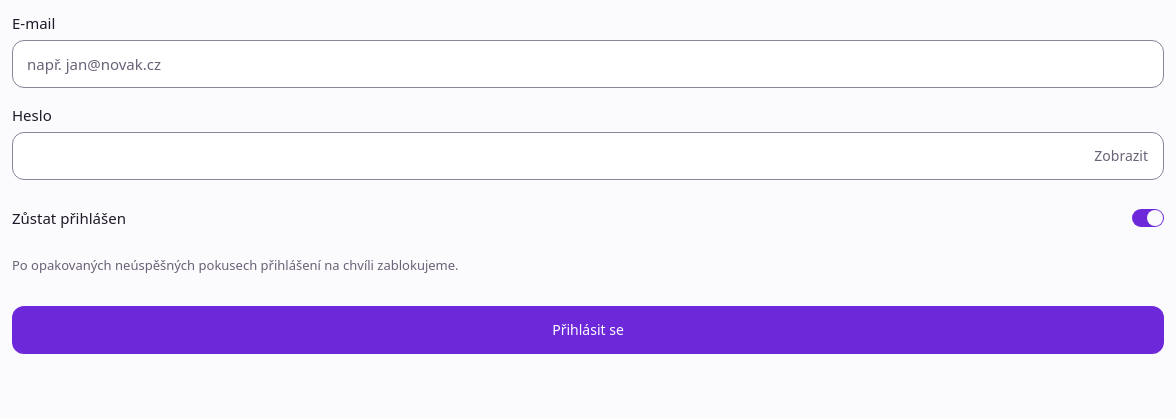
Test: SignInForm › tells an empty e-mail apart from a malformed one
Type "  jana@  " into the field labelled "E-mail" at (588,64), box [12,40,1164,88]
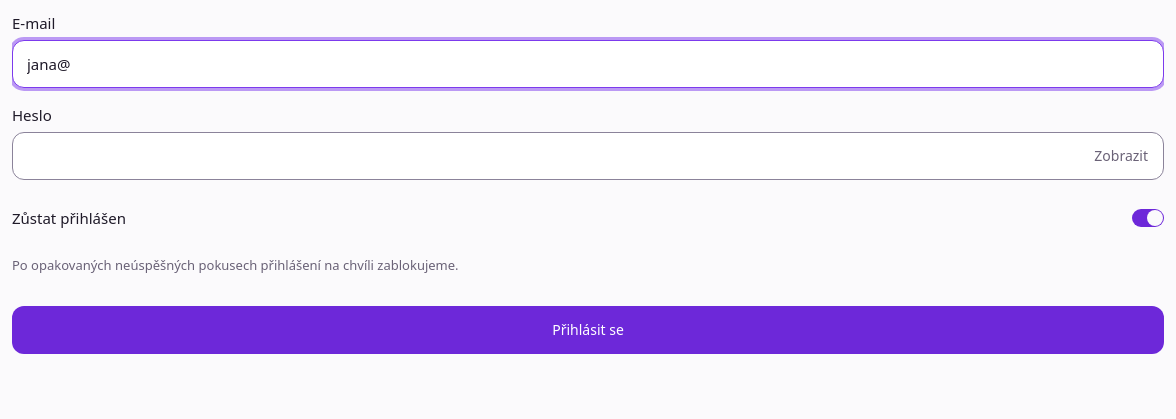
Click the button "Přihlásit se" at (588,330), box [12,306,1164,354]
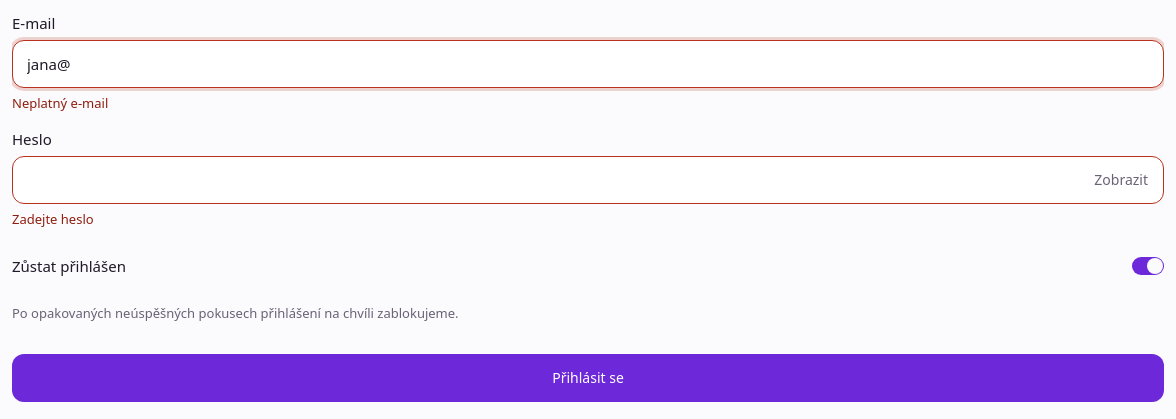
Expected: the text "Neplatný e-mail" is shown, [12,94,108,112]
